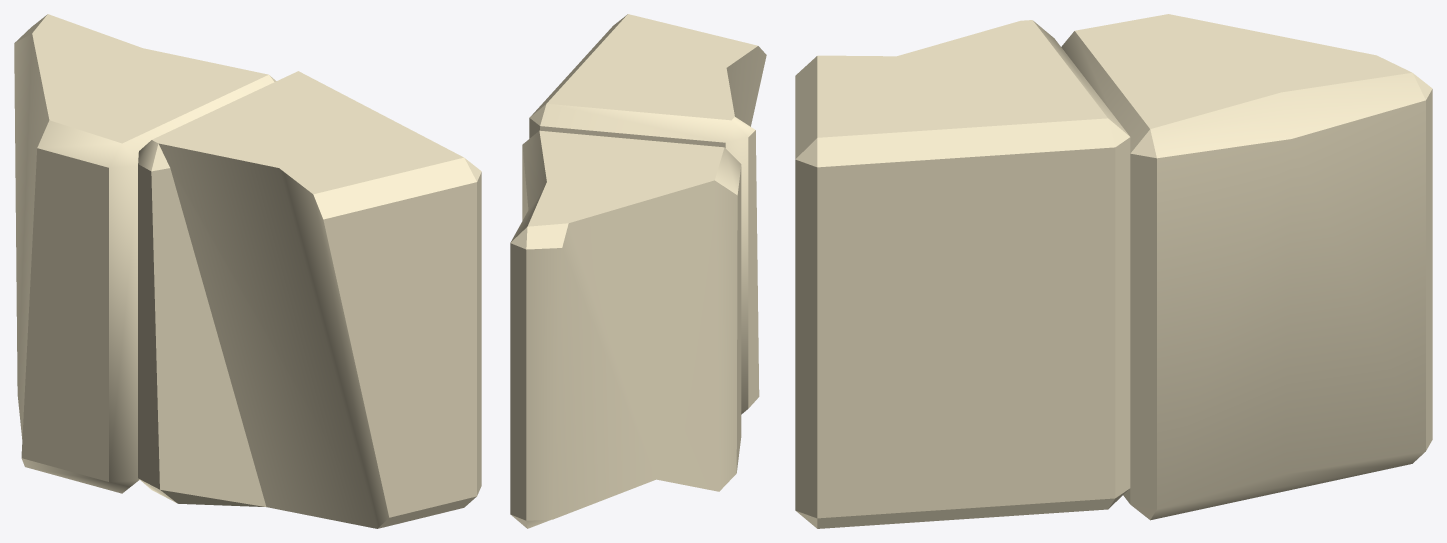
The model's file is Destroy_Arch_1.fbx.
3 views of the same model, side by side, from view 1: azimuth 30°, elevation 25°; view 2: azimuth 150°, elevation 25°; view 3: azimuth 270°, elevation 25° (orthographic). The views are drawn at different scales.
Parts seen in each view (by area): view 1: Destroy_Arch_1_LOD0; view 2: Destroy_Arch_1_LOD0; view 3: Destroy_Arch_1_LOD0.
Part boxes in pixels (<box>): Destroy_Arch_1_LOD0: <box>14,14,481,528</box>; Destroy_Arch_1_LOD0: <box>510,14,766,528</box>; Destroy_Arch_1_LOD0: <box>795,14,1432,528</box>.
Size of what is drawn, in the model's own units: 194 by 224 by 317.
